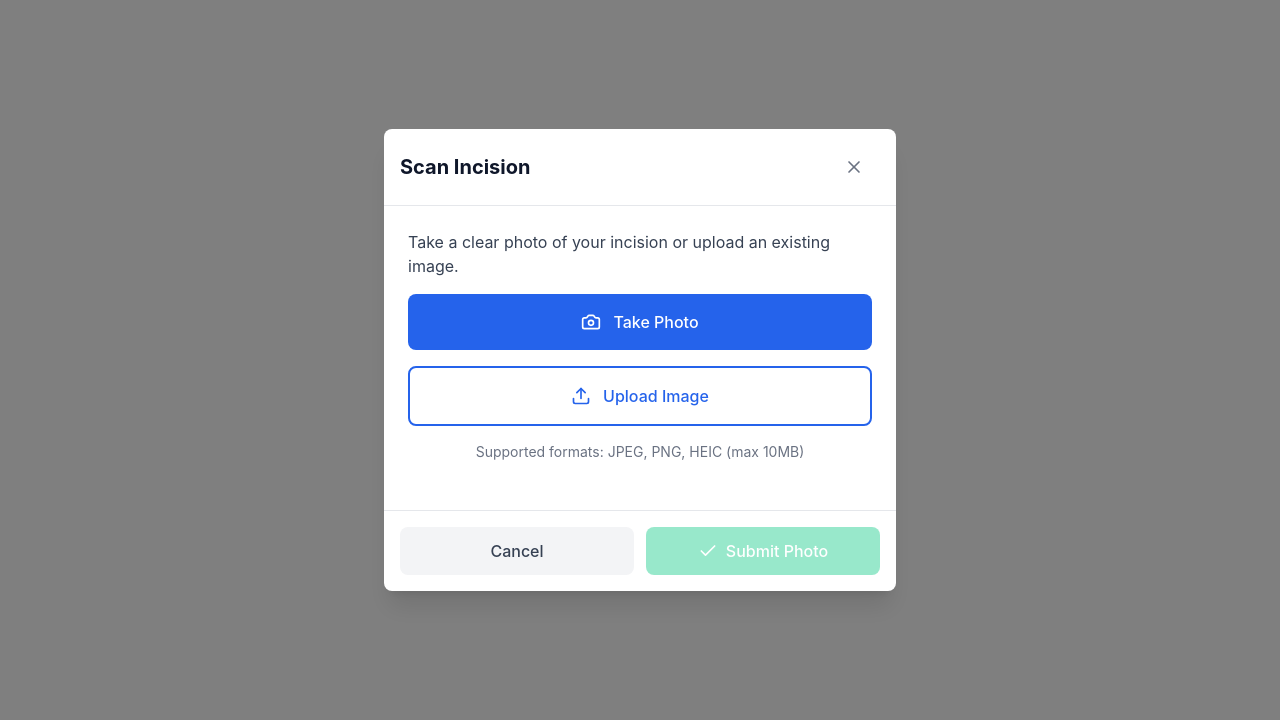
Scenario: PhotoCaptureModal › Camera Access Errors › should show error when camera access is denied
Click the button with aria-label "Open camera to take photo". click: x=640, y=322
box: [408,294,872,350]
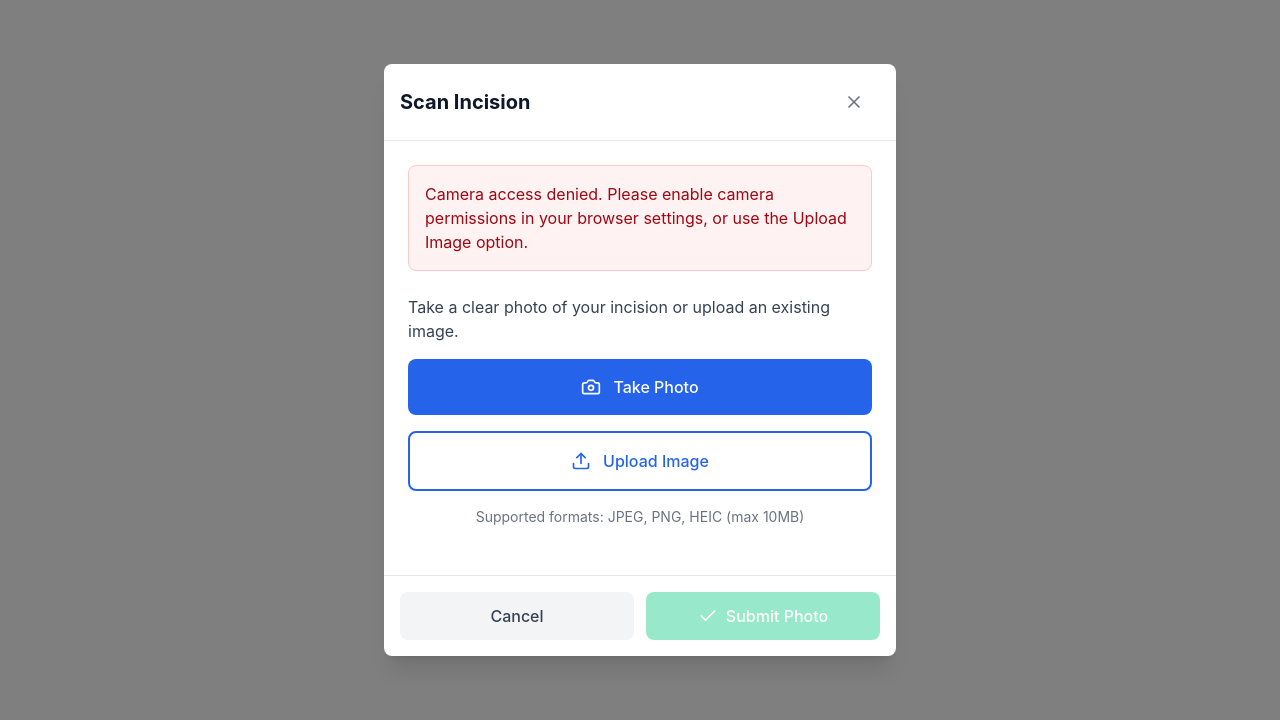
expect the text "Camera access denied" is shown: met, box [425,184,847,252]
